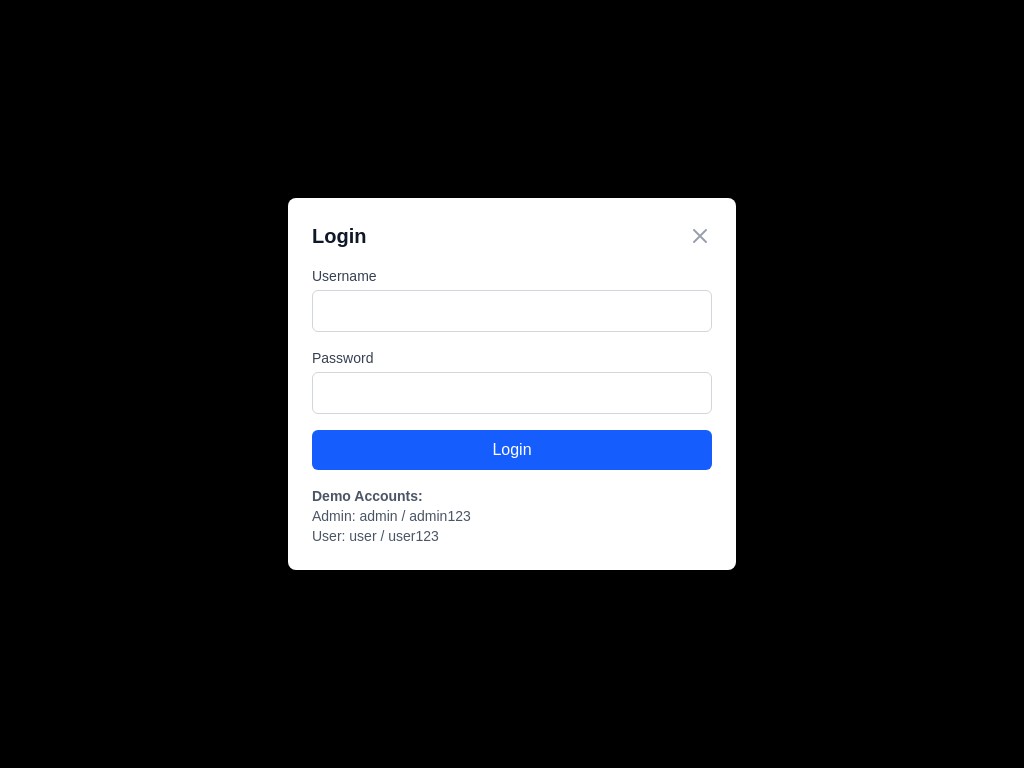
Test: LoginModal › should display error message on login failure
The width and height of the screenshot is (1024, 768).
Type "wronguser" into the field labelled "Username" at (512, 311), box [312, 290, 712, 332]
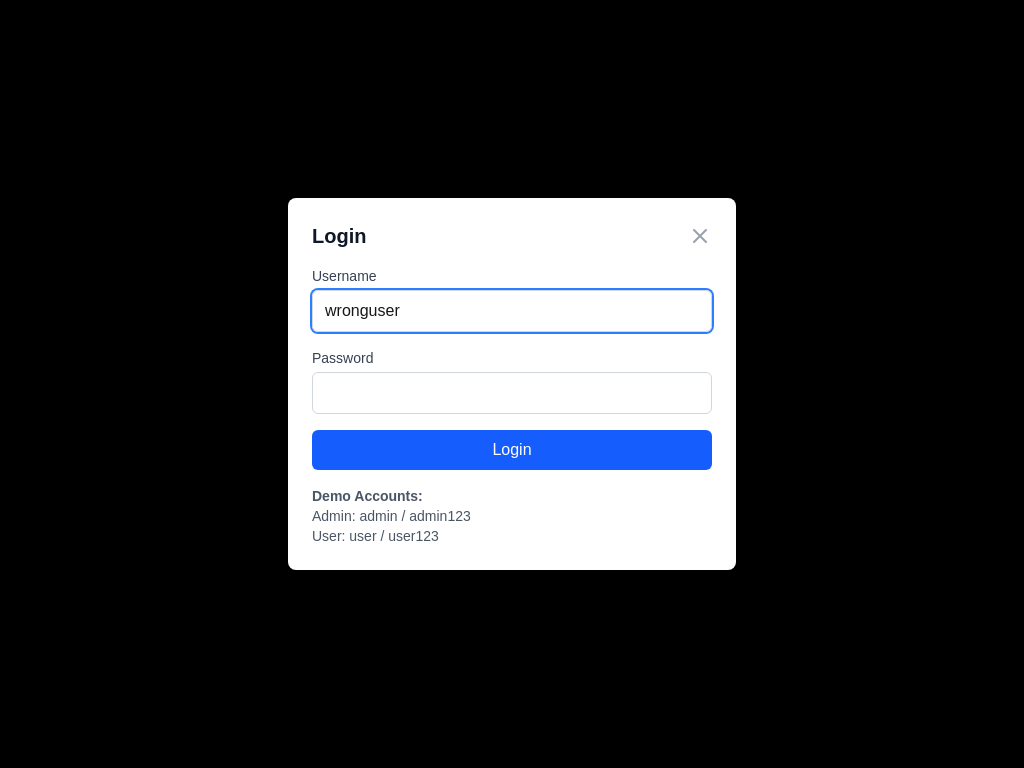
Type "wrongpass" into the password field labelled "Password" at (512, 393), box [312, 372, 712, 414]
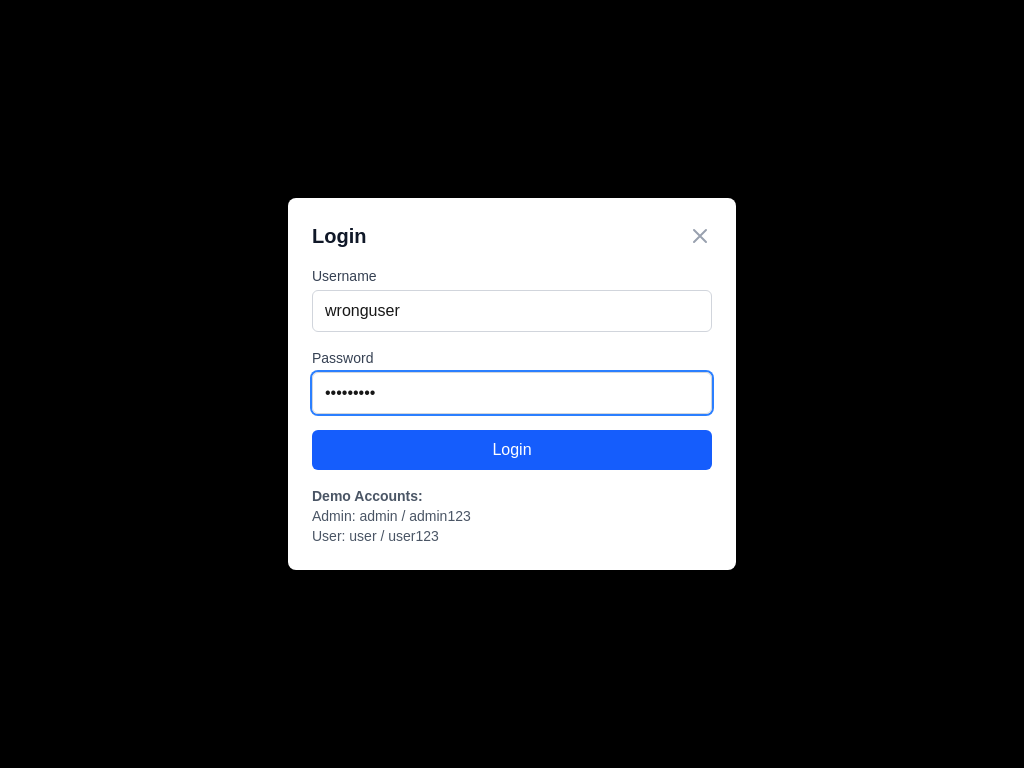
Click the button "Login" at (512, 450), box [312, 430, 712, 470]
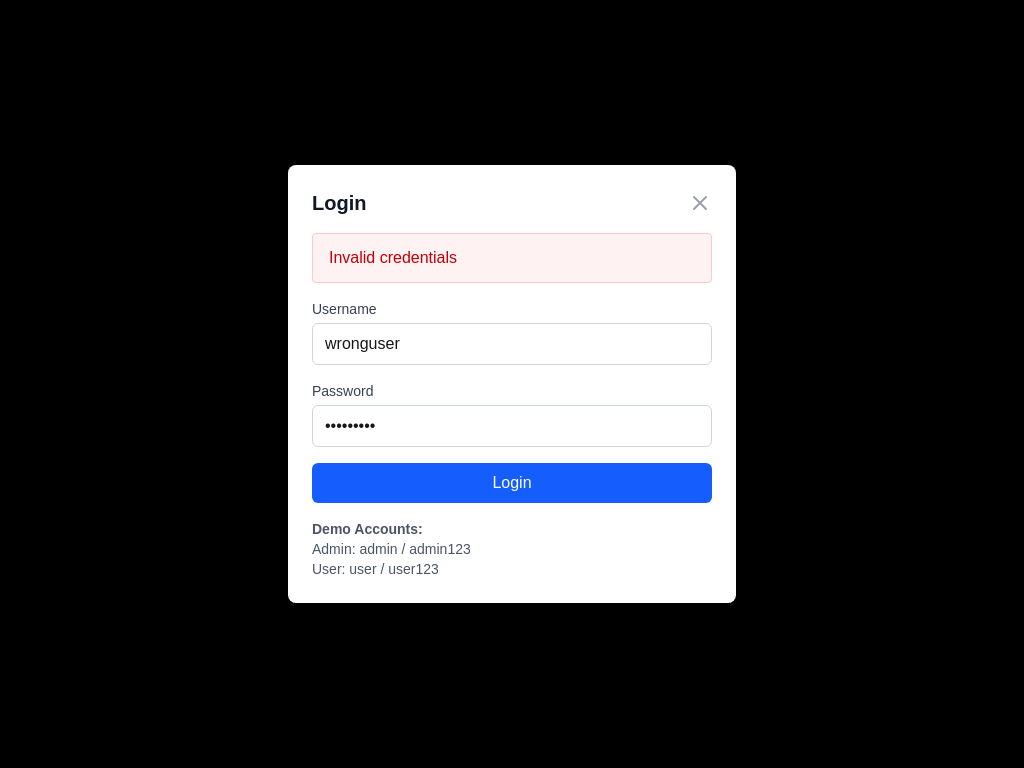
Result: the text "Invalid credentials" is shown at [312, 233, 712, 283]
